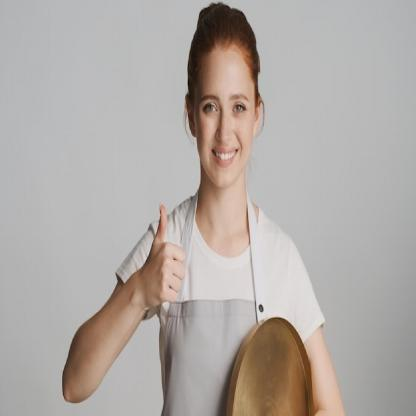thumb_up: (142, 201, 188, 310)
